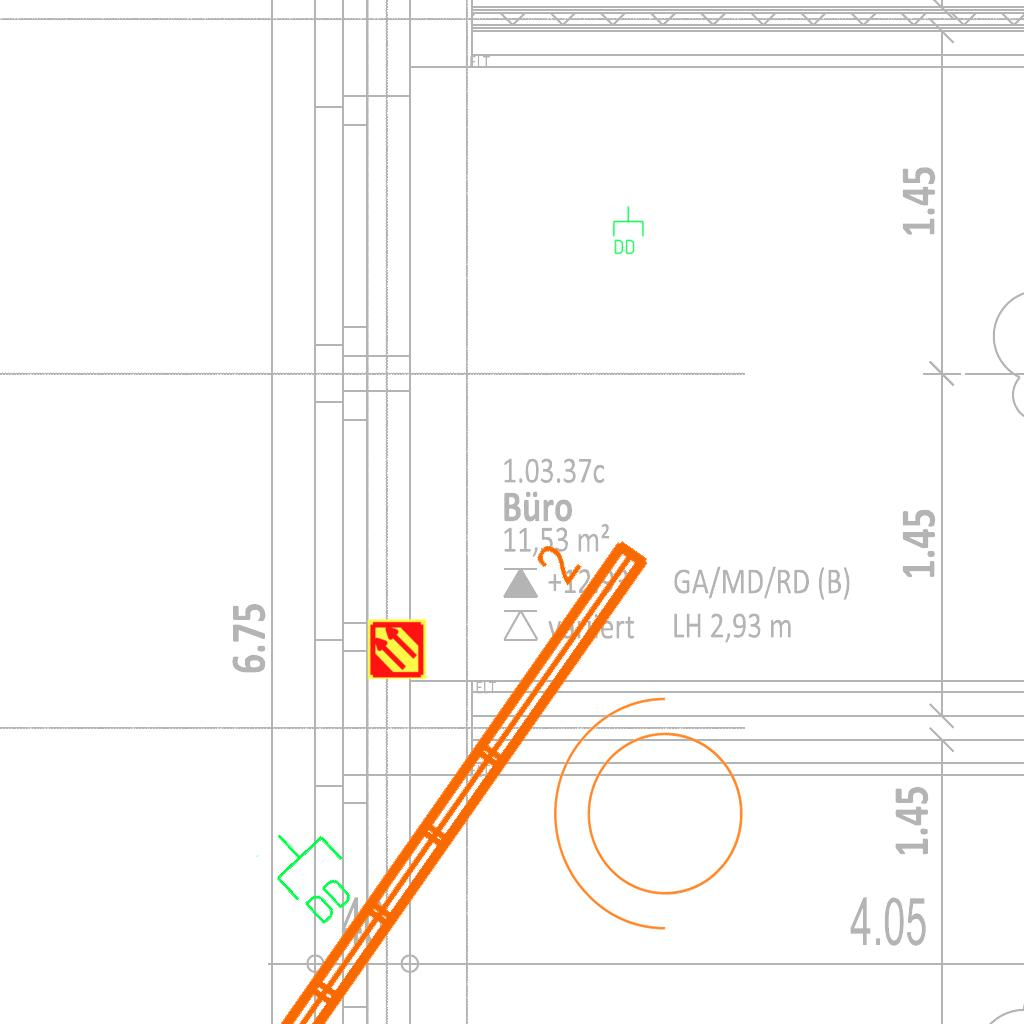ASR_Ansaugrauchmelder: (366, 618, 428, 680)
Ambulanz_Pendelleuchte_LED: (129, 495, 665, 1024)
Datenanschluss_zweifach: (251, 810, 372, 933), (611, 205, 645, 256)
Scheinwerfer_fuer_Alarmbeleuchtung: (543, 688, 768, 952)
